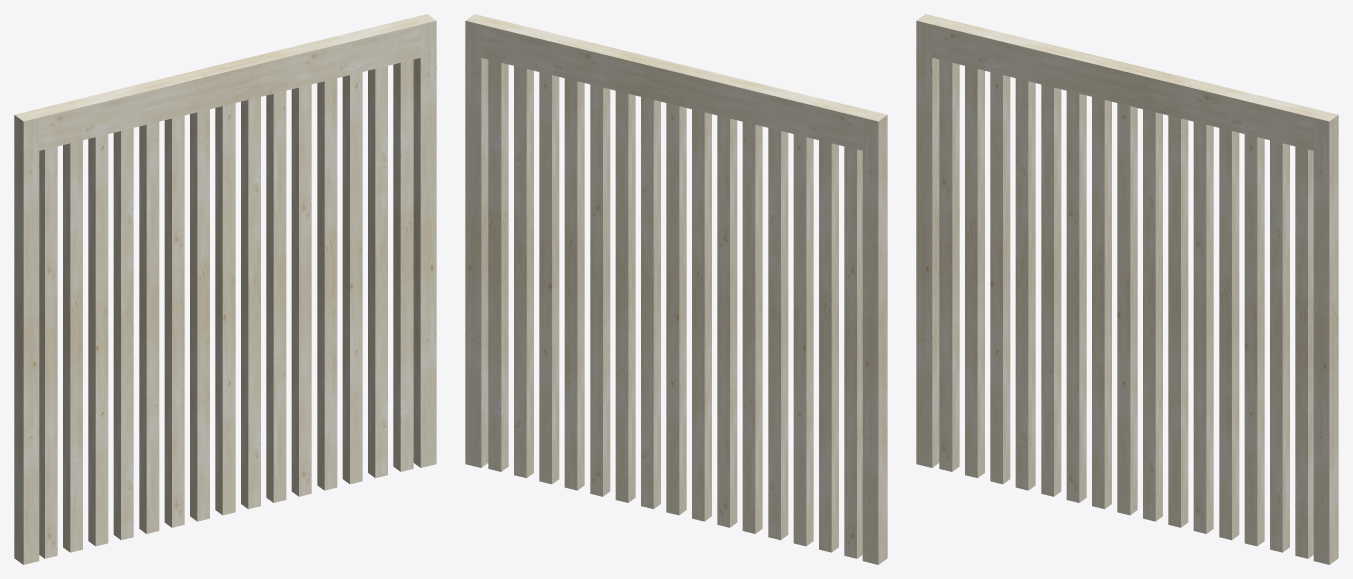
The model's file is es-slit60_h2000_whitepine.fbx.
3 renders of one model, left to right at view 1: azimuth 30°, elevation 25°; view 2: azimuth 150°, elevation 25°; view 3: azimuth 330°, elevation 25°, orthographic.
Visible parts, largest first — view 1: es-slit60_h2000_whitepine; view 2: es-slit60_h2000_whitepine; view 3: es-slit60_h2000_whitepine.
Part boxes in pixels (left/top/right/bottom): es-slit60_h2000_whitepine: left=14, top=14, right=436, bottom=564; es-slit60_h2000_whitepine: left=465, top=14, right=887, bottom=564; es-slit60_h2000_whitepine: left=916, top=14, right=1338, bottom=564.
Bounding box in the file's own units: 195 × 200 × 7.5.
Materials: 1 (1 with a texture image).
